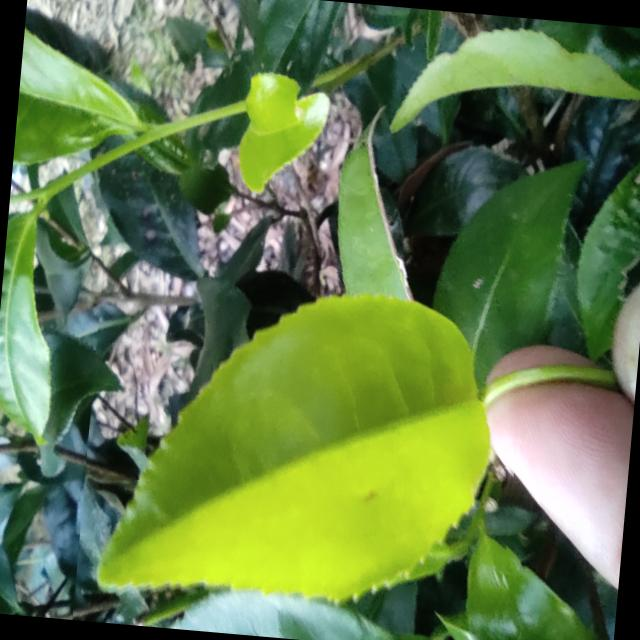Category C(4-7 days): (72, 227, 537, 640)
